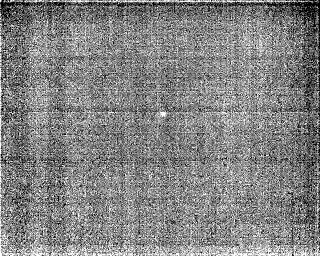BIRD: (154, 108, 170, 122)
